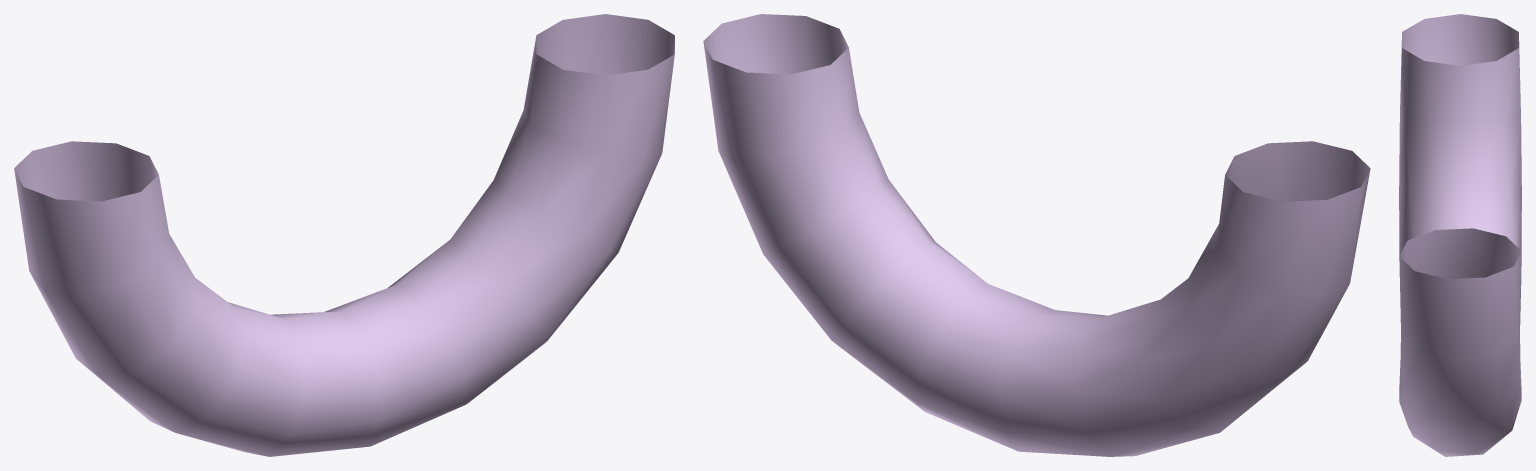
3 renders of one model, left to right at view 1: azimuth 30°, elevation 25°; view 2: azimuth 150°, elevation 25°; view 3: azimuth 270°, elevation 25°, orthographic. The views are drawn at different scales.
Parts seen in each view (by area): view 1: Object67; view 2: Object67; view 3: Object67.
Part boxes in pixels (x1=…): Object67: x1=14, y1=14, x2=674, y2=456; Object67: x1=703, y1=14, x2=1370, y2=456; Object67: x1=1399, y1=14, x2=1521, y2=456.
Bounding box in the file's own units: 50468 × 25261 × 9883.
